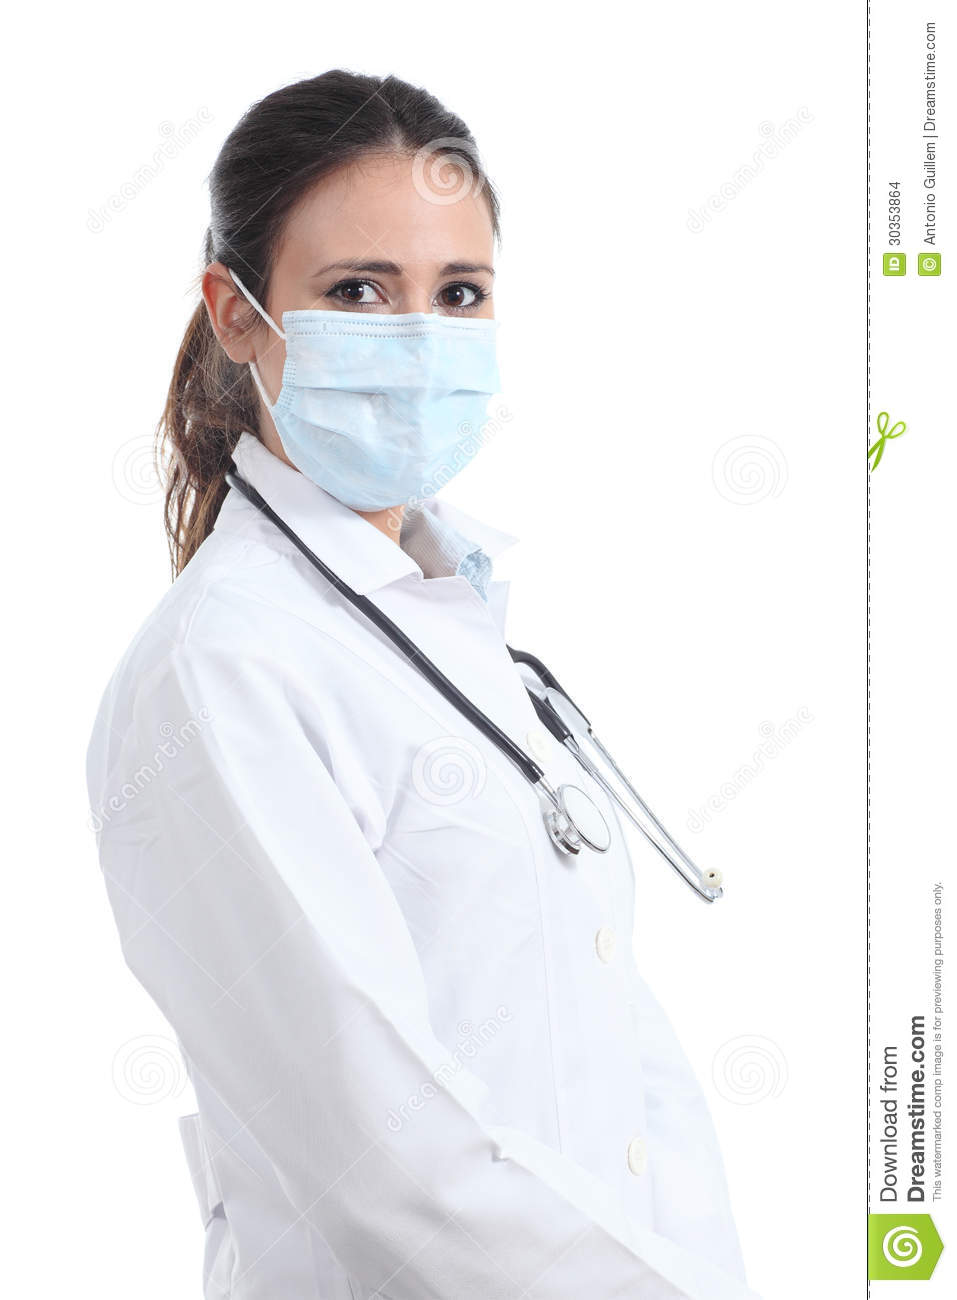mask: (274, 313, 512, 519)
